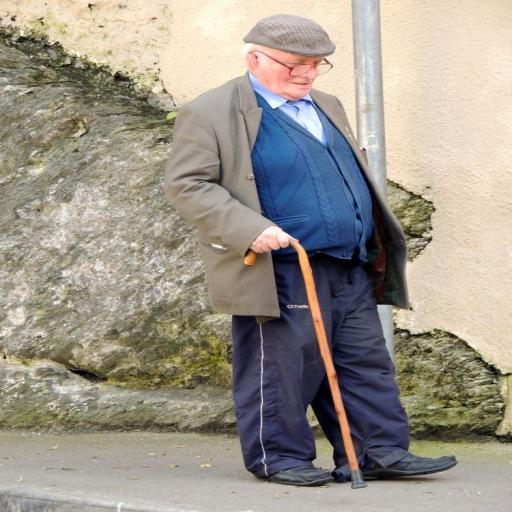laptop: (166, 15, 456, 485)
